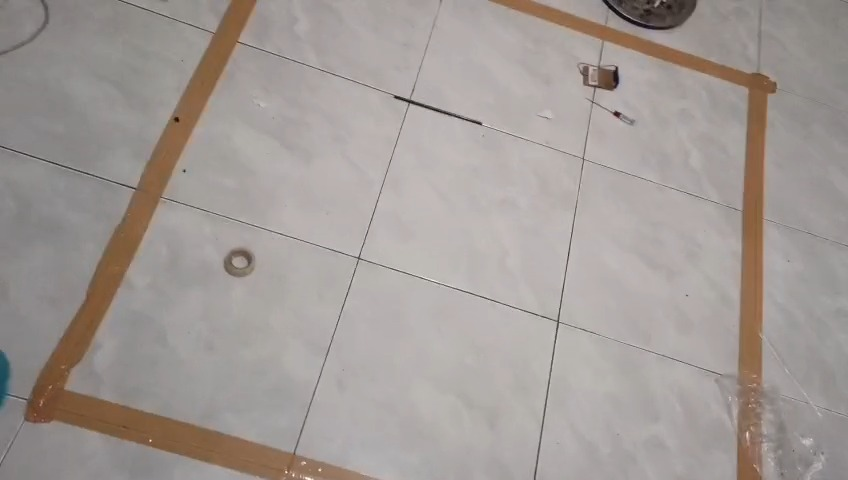floor marking: (25, 0, 366, 479), (493, 0, 776, 479)
